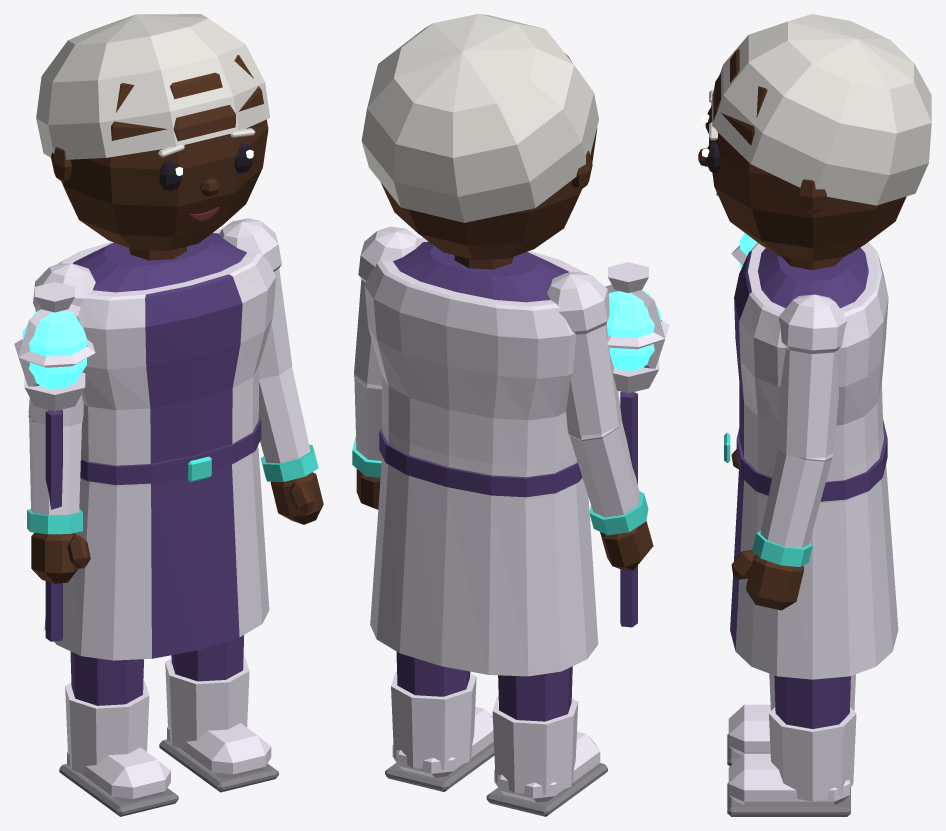
The model's file is aby-n1.glb.
3 renders of one model, left to right at view 1: azimuth 30°, elevation 25°; view 2: azimuth 150°, elevation 25°; view 3: azimuth 270°, elevation 25°, orthographic.
Parts seen in each view (by area): view 1: mantel, haare, kopf, gegenstand_lightcap, schuh_l, schuh_r, arm_l, arm_r, torso, gürtel, bein_r, hand_r (+3 smaller); view 2: mantel, haare, arm_r, schuh_r, schuh_l, gegenstand_lightcap, kopf, arm_l, torso, gürtel, bein_r, bein_l (+2 smaller); view 3: mantel, haare, arm_l, kopf, schuh_l, torso, bein_l, hand_l, schuh_r, gürtel, gesicht, hals.
Boxes of the visible parts, box(x1,y1,x2,y2) form: mantel: box(44, 229, 275, 660); haare: box(36, 14, 269, 159); kopf: box(51, 55, 268, 250); gegenstand_lightcap: box(14, 282, 95, 641); schuh_l: box(159, 657, 278, 792); schuh_r: box(59, 681, 178, 816); arm_l: box(219, 218, 318, 481); arm_r: box(27, 263, 95, 534); torso: box(73, 233, 246, 292); gürtel: box(80, 417, 261, 485); bein_r: box(70, 651, 143, 705); hand_r: box(31, 532, 90, 583); mantel: box(364, 237, 598, 676); haare: box(361, 14, 598, 222); arm_r: box(547, 271, 648, 535); schuh_r: box(486, 696, 607, 816); schuh_l: box(385, 671, 494, 791); gegenstand_lightcap: box(605, 262, 669, 627); kopf: box(381, 53, 597, 259); arm_l: box(352, 226, 421, 477); torso: box(393, 241, 568, 302); gürtel: box(379, 428, 582, 497); bein_r: box(498, 666, 572, 721); bein_l: box(396, 651, 470, 696); mantel: box(730, 242, 898, 679); haare: box(712, 14, 931, 205); arm_l: box(752, 294, 847, 566); kopf: box(709, 49, 906, 261); schuh_l: box(727, 707, 856, 816); torso: box(758, 247, 868, 308); bein_l: box(774, 675, 850, 728); hand_l: box(731, 550, 803, 610); schuh_r: box(727, 673, 855, 766); gürtel: box(724, 419, 887, 501); gesicht: box(698, 90, 720, 195); hals: box(782, 257, 842, 269).
Bounding box in the file's own units: 0.0116 × 0.0274 × 0.00776.
